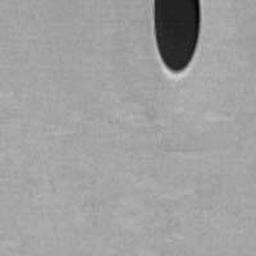Punching: (154, 0, 202, 73)
